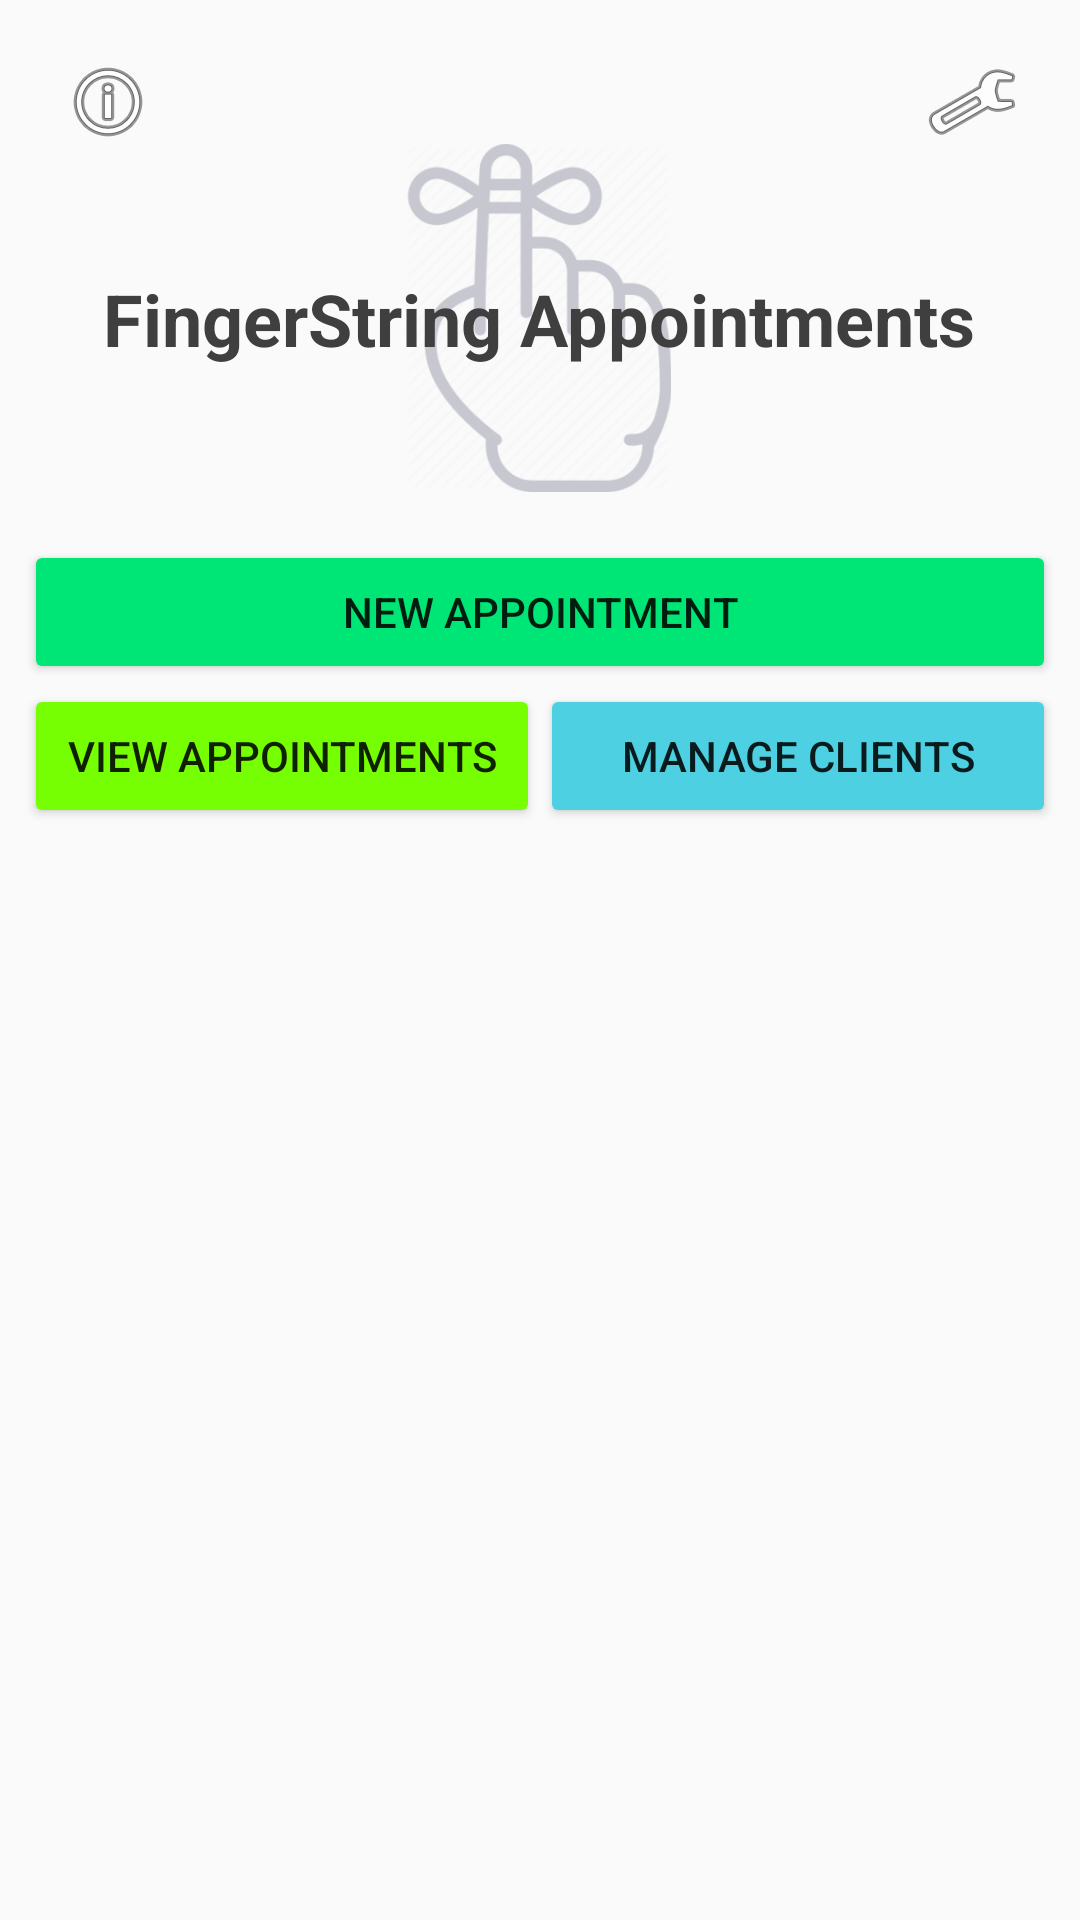

Locate icon controls on the screen. Image size 1080w x 1920h, boxes as (x1, y1, x2, y2).
info details: (73, 67, 143, 137)
preferences: (929, 69, 1015, 135)
